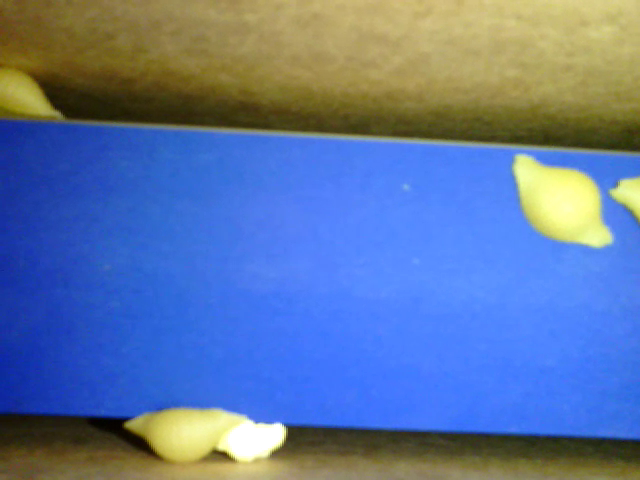shell: (511, 151, 613, 251), (125, 405, 246, 461), (1, 61, 68, 122)
